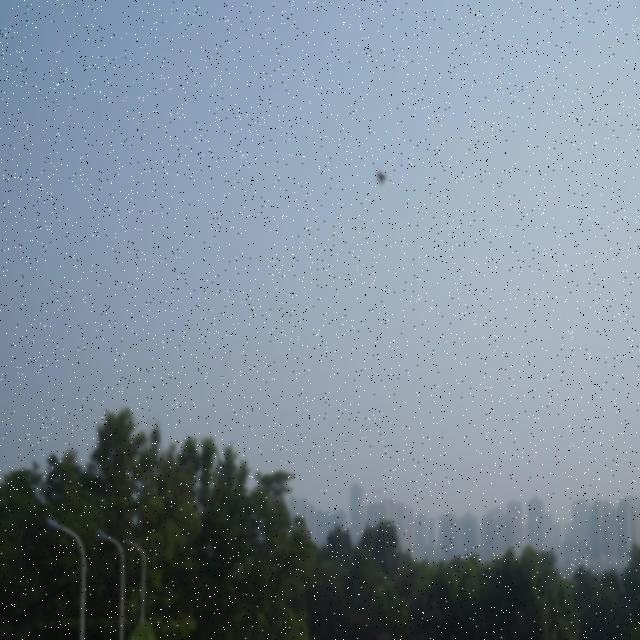UAV: (376, 169, 387, 187)
